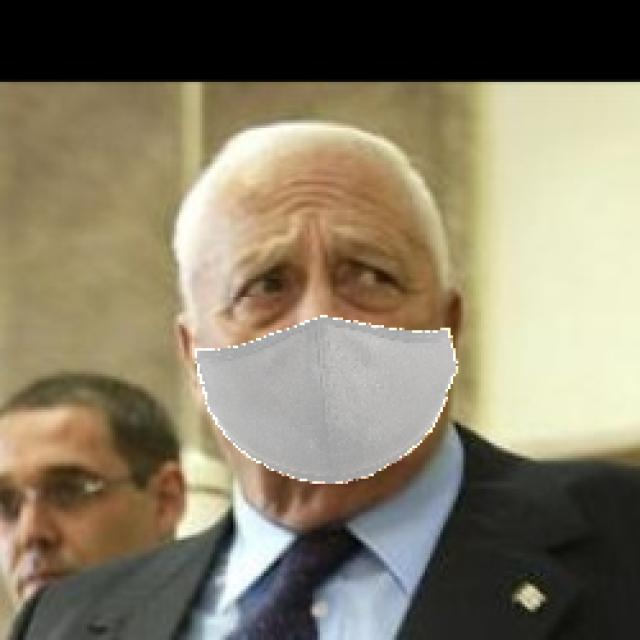mask: (176, 315, 488, 493)
